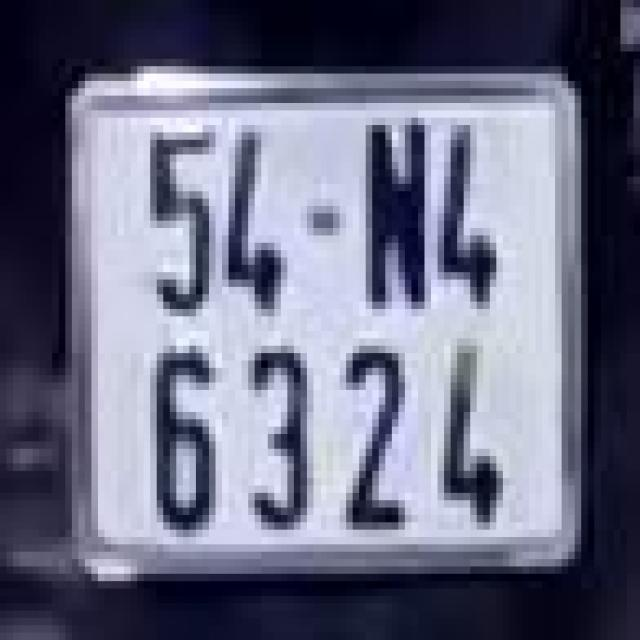2: (326, 334, 412, 540)
3: (245, 338, 317, 537)
4: (424, 331, 510, 537), (434, 103, 506, 316), (219, 114, 284, 335)
5: (134, 125, 219, 316)
6: (134, 331, 232, 537)
N: (356, 107, 434, 320)
